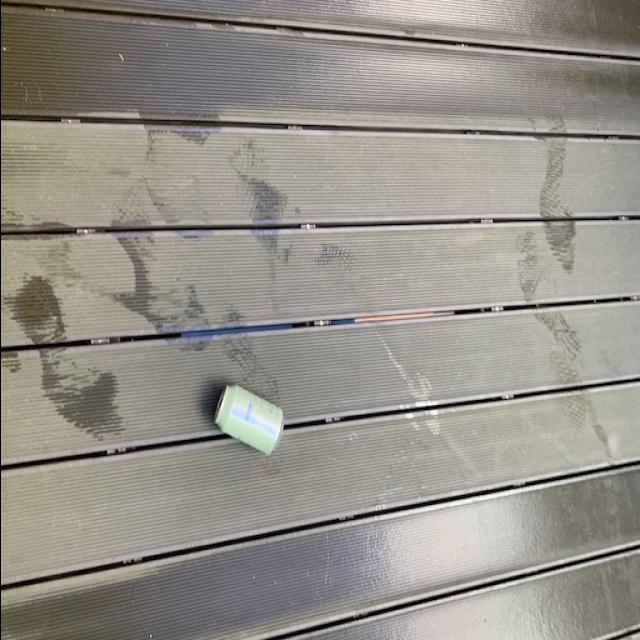Aluminum Can: (207, 383, 282, 458)
